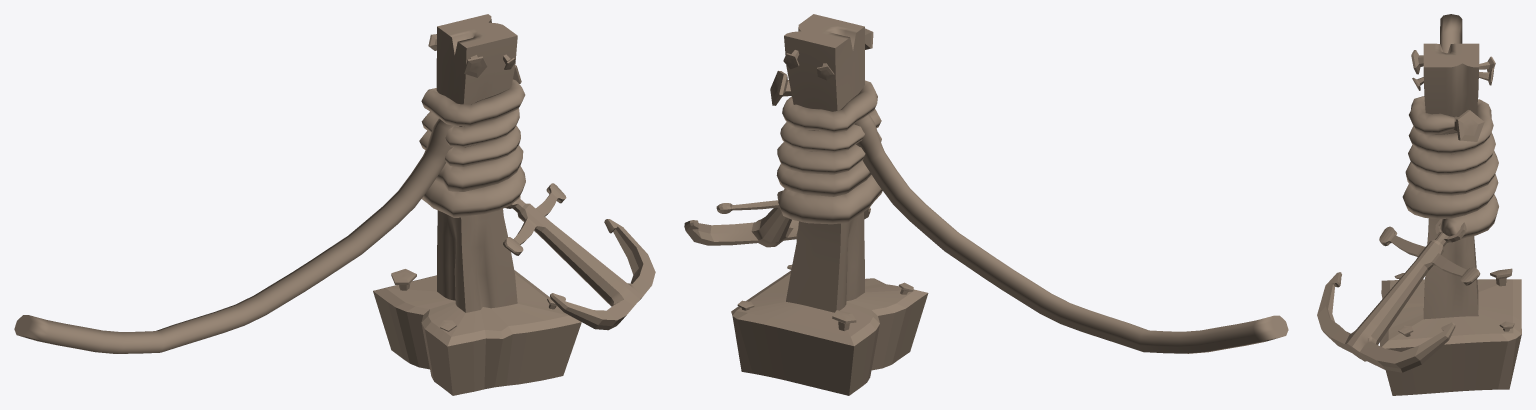
File: anchor.fbx
The picture shows the model from 3 angles, left to right: view 1: azimuth 30°, elevation 25°; view 2: azimuth 150°, elevation 25°; view 3: azimuth 270°, elevation 25°; orthographic projection. The views are drawn at different scales.
Parts seen in each view (by area): view 1: anchor_pole; view 2: anchor_pole; view 3: anchor_pole.
Boxes of the visible parts, x1=… form: anchor_pole: x1=14, y1=14, x2=655, y2=395; anchor_pole: x1=684, y1=14, x2=1288, y2=395; anchor_pole: x1=1317, y1=14, x2=1521, y2=395.
Bounding box in the file's own units: 119 × 62.52 × 36.82.
